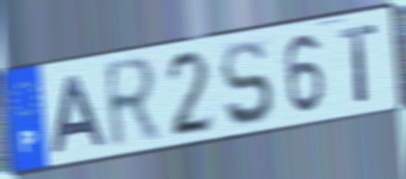2: (166, 48, 216, 138)
6: (282, 31, 328, 116)
A: (49, 72, 110, 157)
R: (101, 52, 164, 155)
S: (218, 37, 277, 129)
T: (337, 21, 380, 104)
